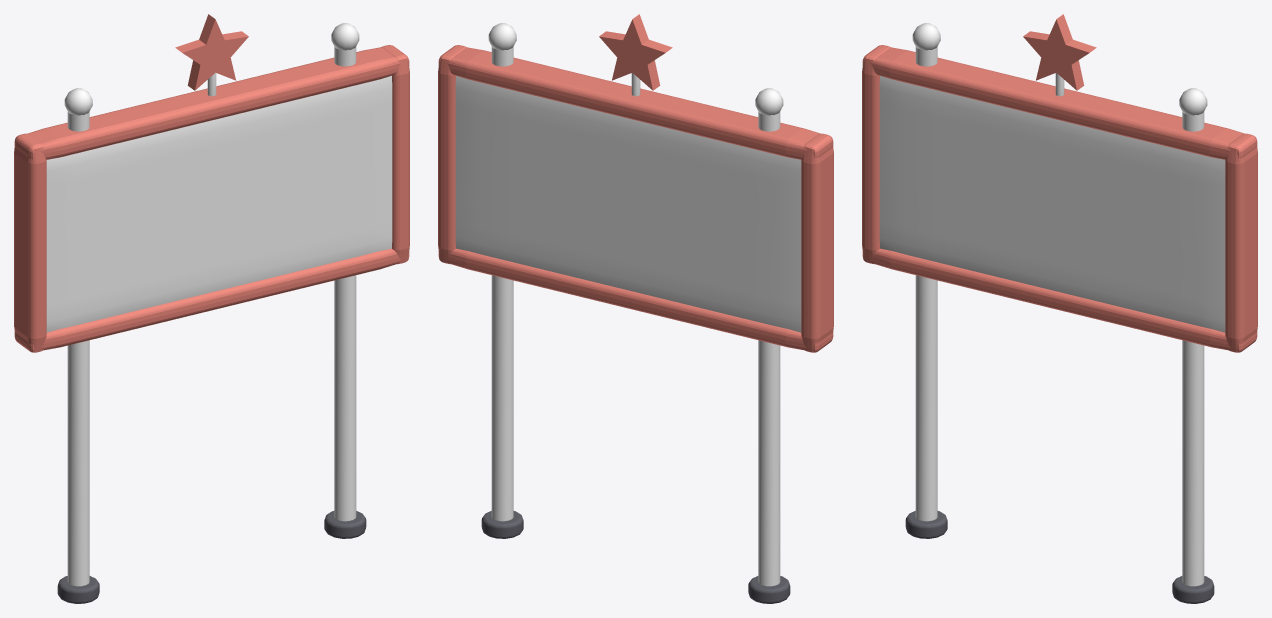
Rendered from MechaMarathonSign.glb.
3 renders of one model, left to right at view 1: azimuth 30°, elevation 25°; view 2: azimuth 150°, elevation 25°; view 3: azimuth 330°, elevation 25°, orthographic.
Visible parts, largest first — view 1: Board, Frame, Post, Dark; view 2: Board, Frame, Post, Dark; view 3: Board, Frame, Post, Dark.
Boxes of the visible parts, left/top/right/bottom form: Board: left=46, top=75, right=392, bottom=332; Frame: left=14, top=14, right=409, bottom=352; Post: left=64, top=23, right=359, bottom=586; Dark: left=57, top=511, right=366, bottom=603; Board: left=455, top=76, right=801, bottom=332; Frame: left=438, top=14, right=833, bottom=352; Post: left=488, top=23, right=783, bottom=586; Dark: left=481, top=511, right=790, bottom=603; Board: left=879, top=76, right=1225, bottom=332; Frame: left=862, top=14, right=1257, bottom=352; Post: left=912, top=23, right=1207, bottom=586; Dark: left=905, top=511, right=1214, bottom=603.
Bounding box in the file's own units: 6.72 × 9.22 × 0.624.
